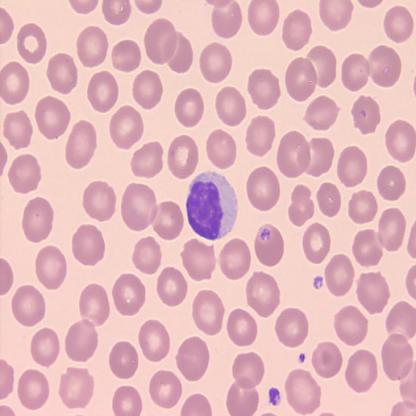Lymphocyte: (186, 171, 239, 242)
